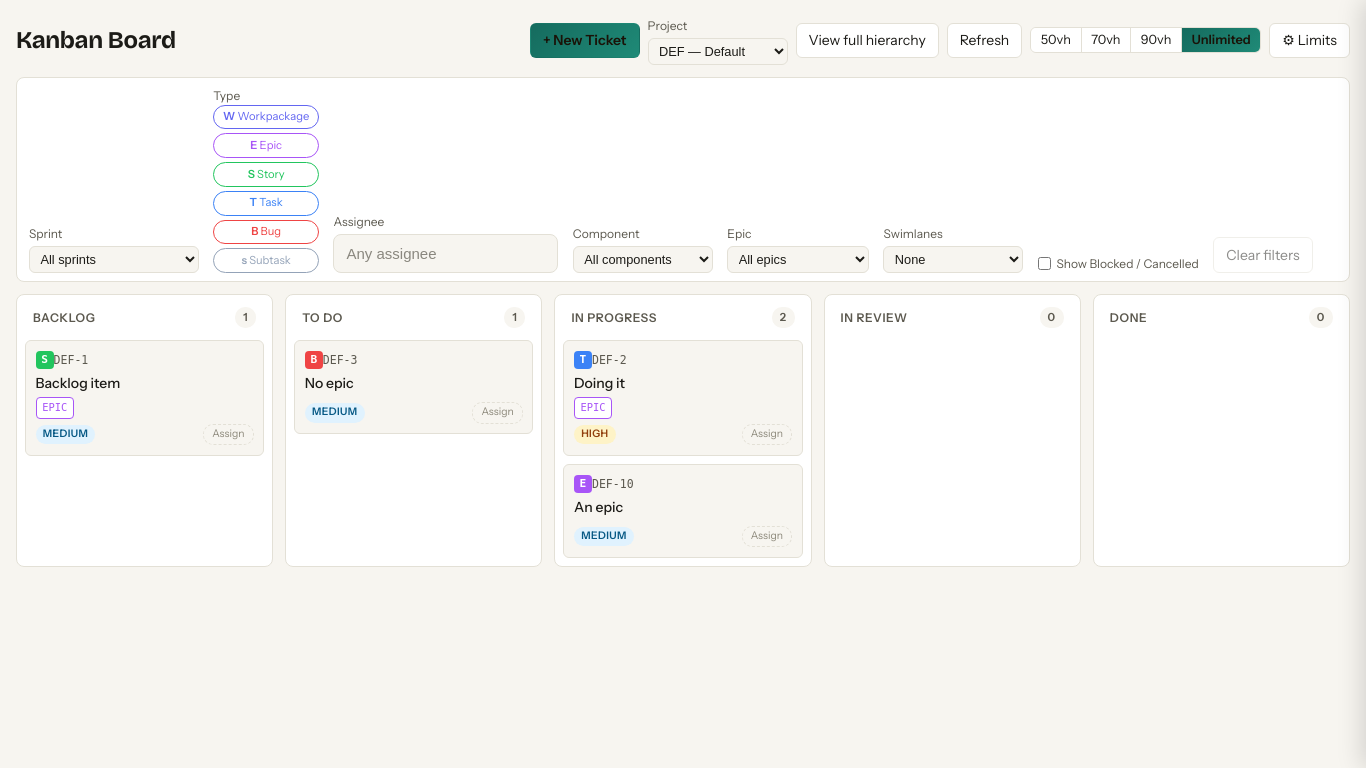
Test: KanbanBoard v2 › swimlane 'By Epic' renders a header for the grouping epic
The width and height of the screenshot is (1366, 768).
Check: the text "Backlog item" is shown, box [36,374,120,392]
Select "By Epic" in the dropdown named "Swimlanes mode" at [953, 260], box [883,246,1023,273]
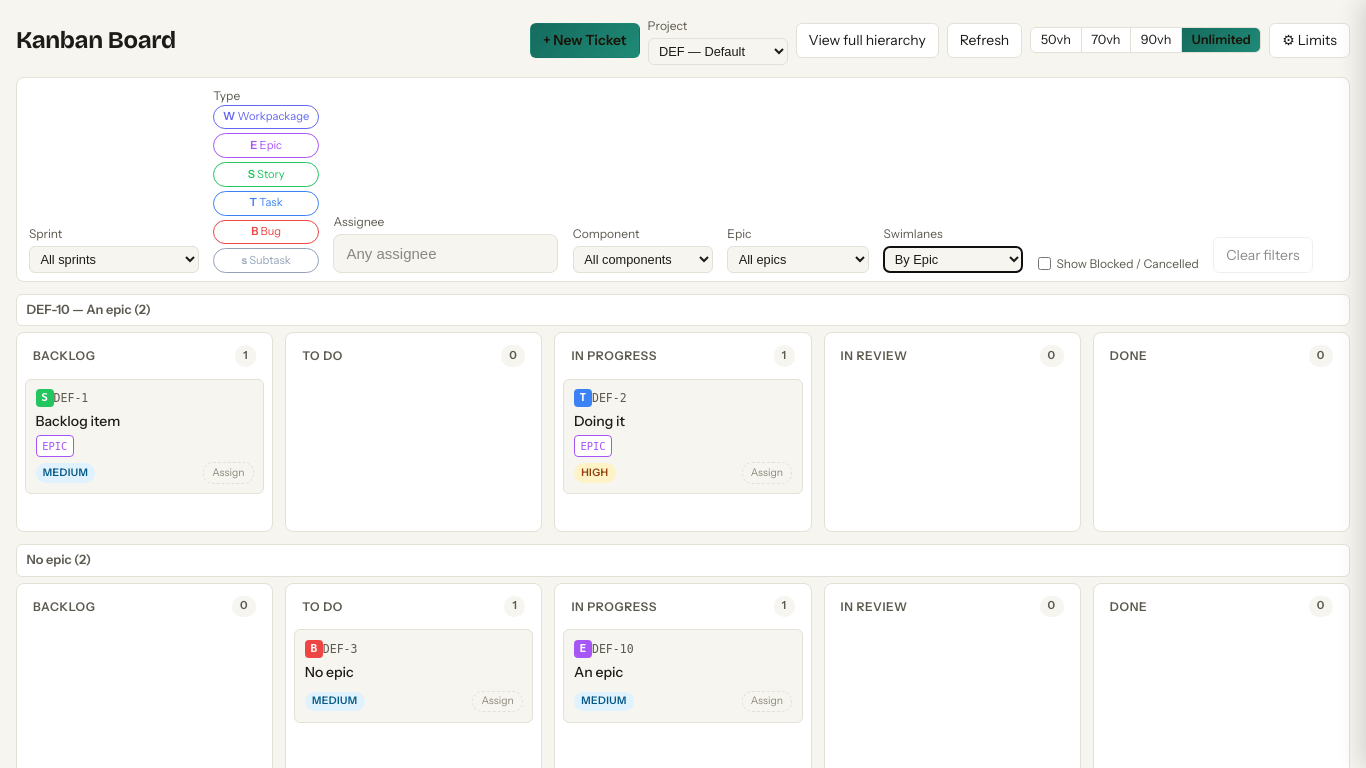
Check: the text "DEF-10 — An epic (2)" is shown, box [16,294,1350,326]
Check: the text "No epic (2)" is shown, box [16,544,1350,576]
